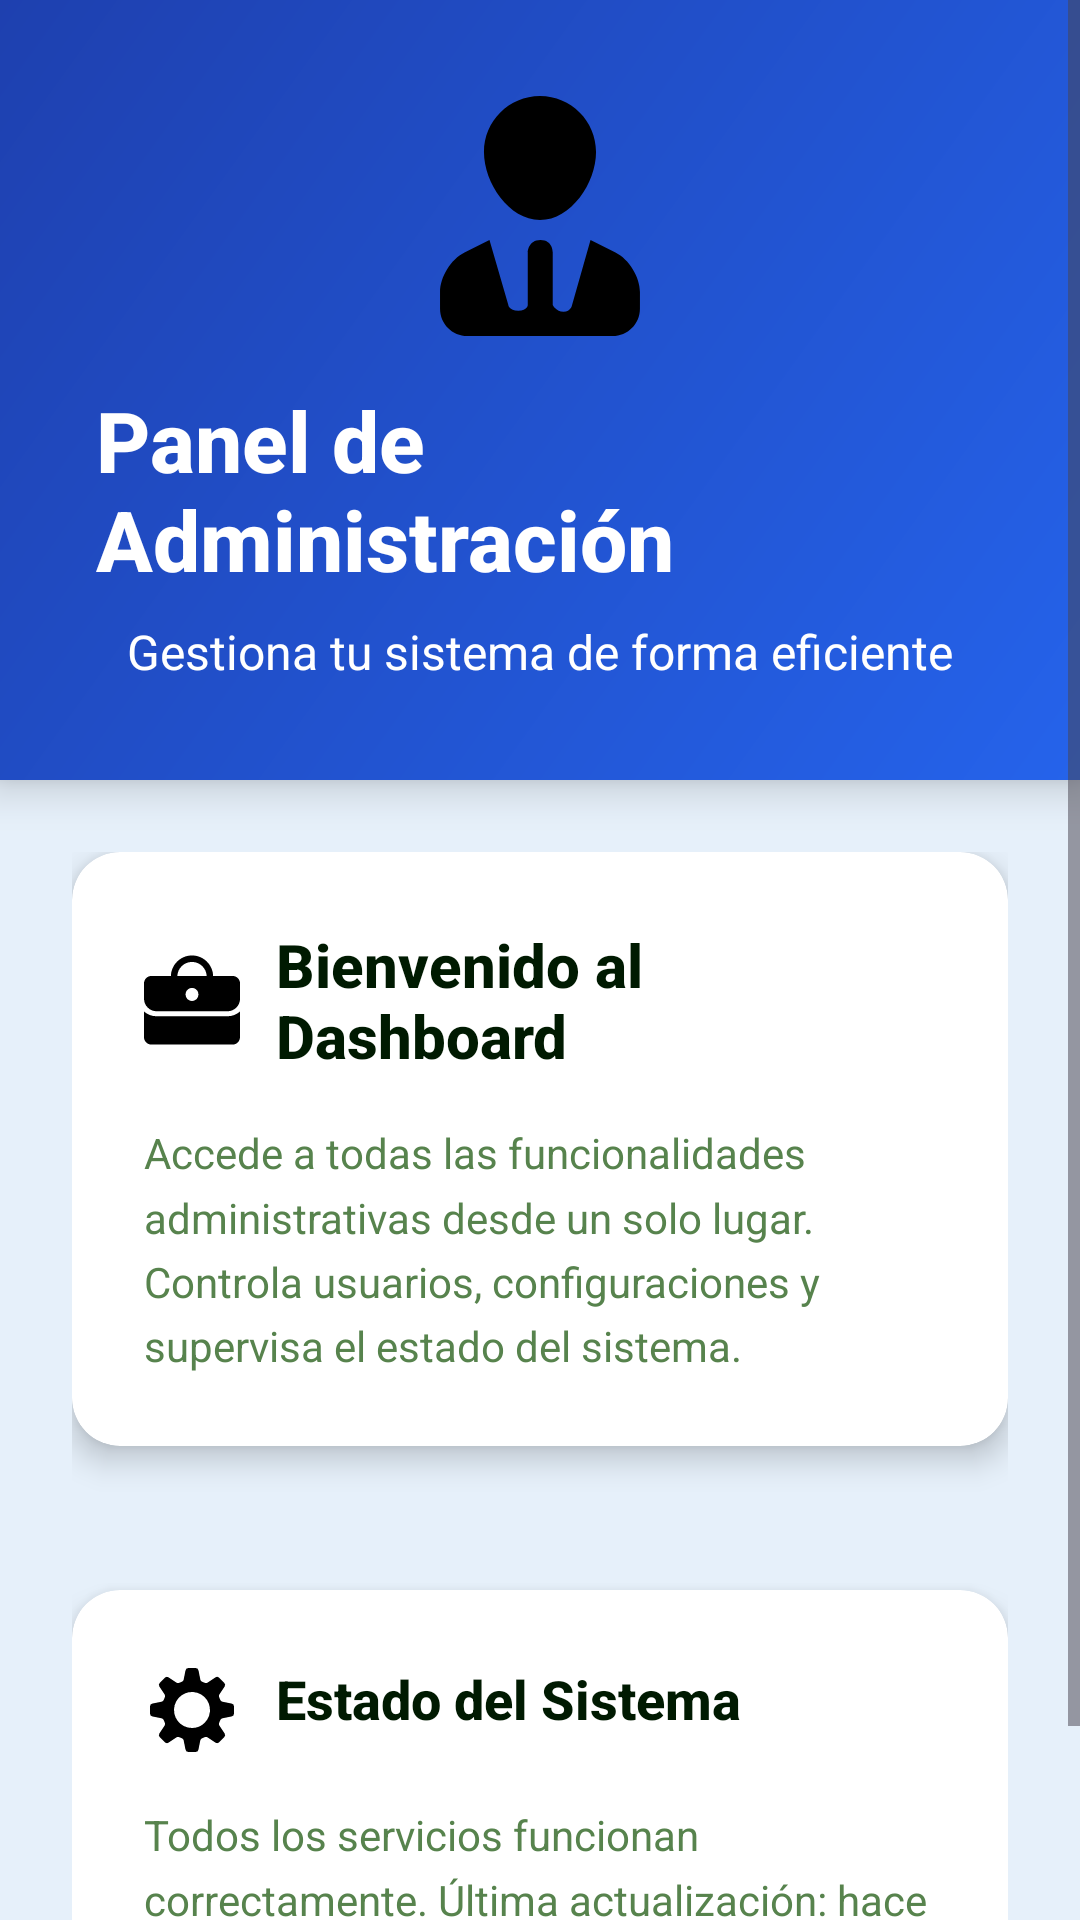

Named icons in this screenshot (1080×1920) and their centers, point (x, y):
Admin Icon: point (540, 216)
System Status Icon: point (192, 1710)
